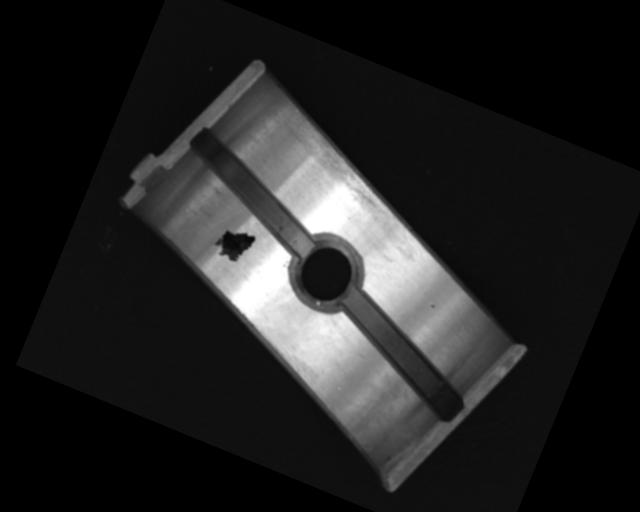blot: (209, 220, 259, 267)
bruise: (427, 300, 438, 310)
gap: (317, 285, 487, 423), (167, 126, 338, 258)
hole: (280, 227, 371, 321)
scratch: (266, 104, 418, 220)
